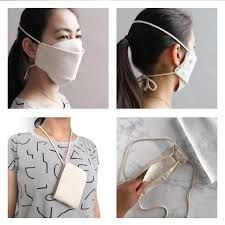with-mask: (123, 13, 200, 92), (17, 9, 93, 89)
